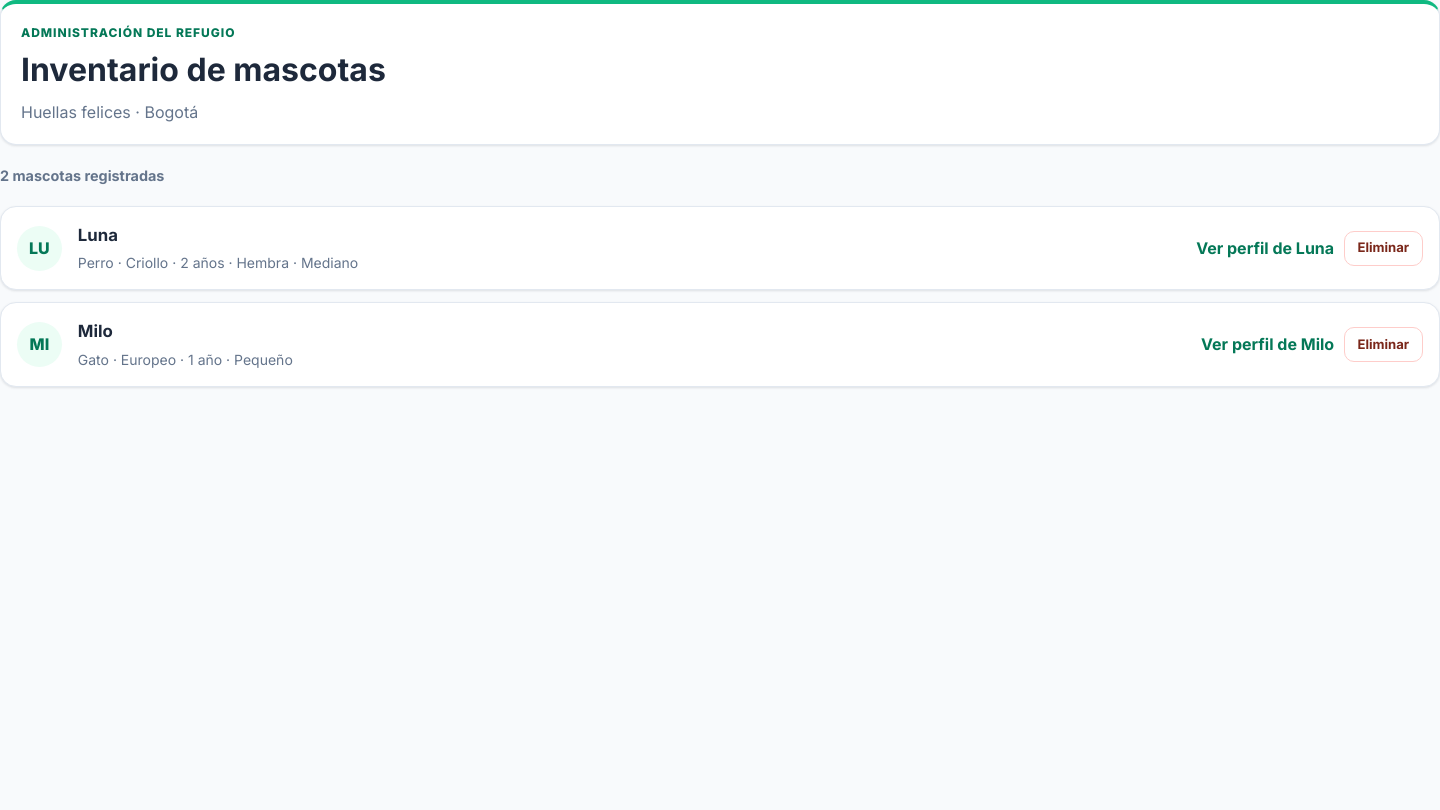
PetInventoryPage › shows a fallback when a deletion error has no message
The width and height of the screenshot is (1440, 810).
Expected: the heading "Inventario de mascotas" is shown, x1=21 y1=46 x2=386 y2=94
Click the button with aria-label "Eliminar a Luna" at [1383, 248], box x1=1344 y1=231 x2=1423 y2=266
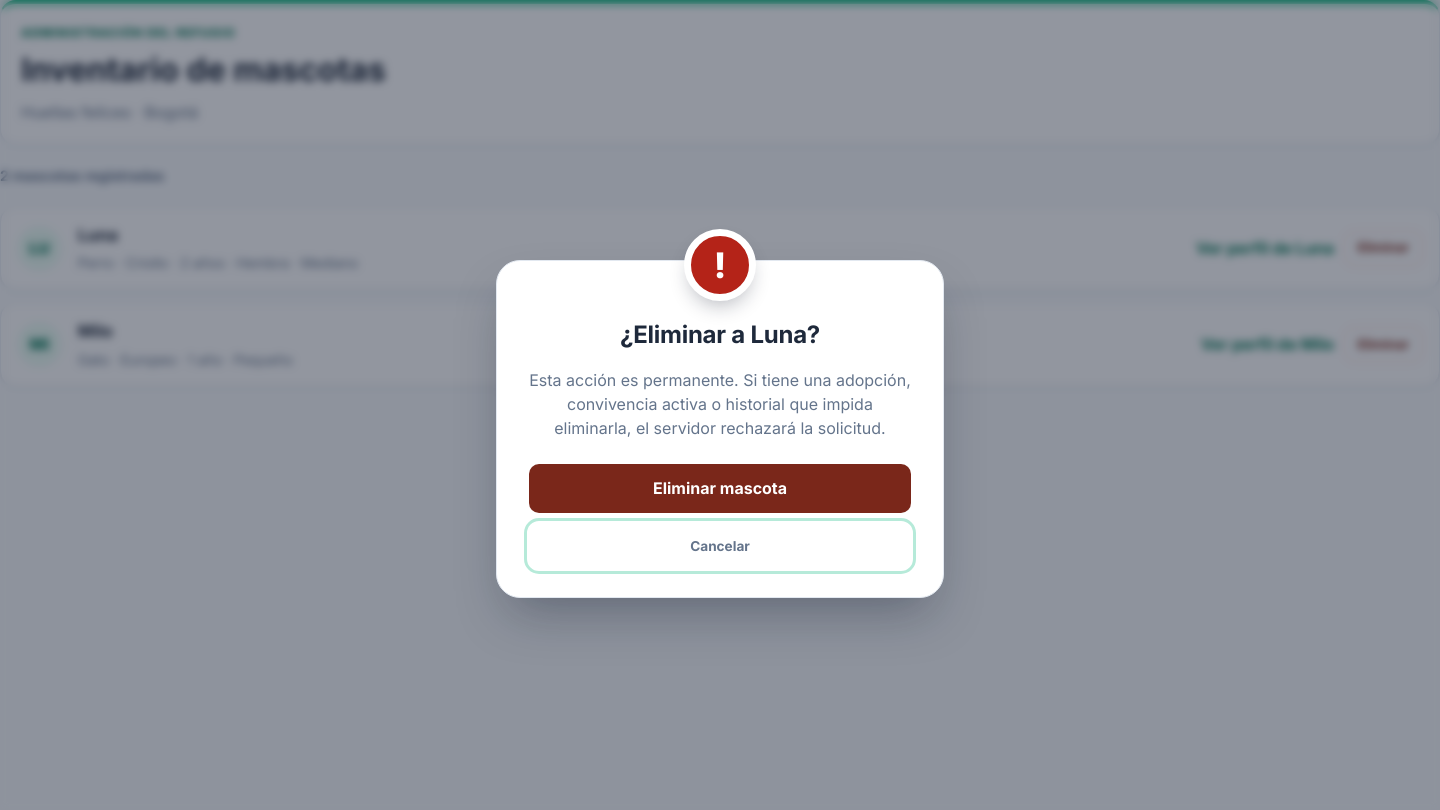
Click the button "Eliminar mascota" at [720, 488], box x1=529 y1=464 x2=911 y2=513
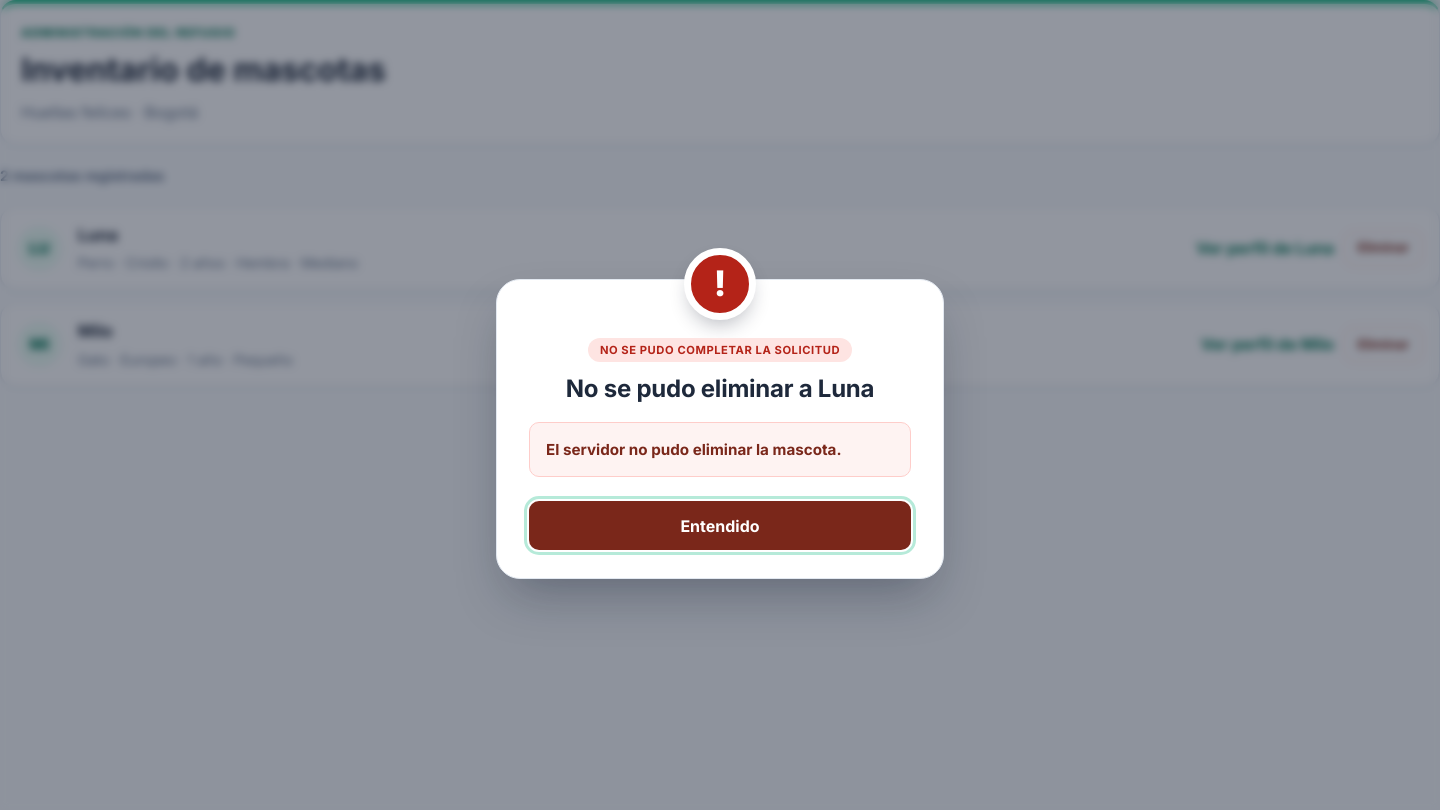
Expected: the dialog shows "El servidor no pudo eliminar la mascota.", x1=546 y1=440 x2=842 y2=458
